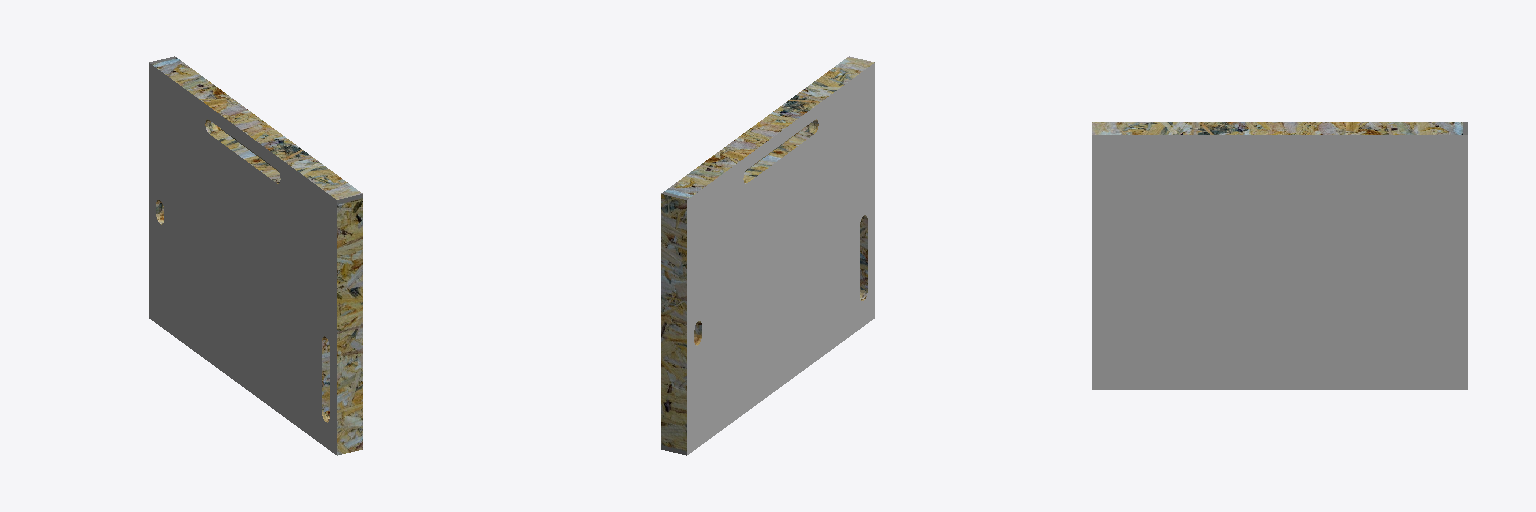
3 views of the same model, side by side, from view 1: azimuth 30°, elevation 25°; view 2: azimuth 150°, elevation 25°; view 3: azimuth 270°, elevation 25° (orthographic).
Parts seen in each view (by area): view 1: Product; view 2: Product; view 3: Product.
Part boxes in pixels (x1,y1,x2,y2): Product: (149,56,362,455); Product: (661,56,874,455); Product: (1092,122,1467,389).
Size of the model in its own units: 16 by 150 by 200.
Materials: 2 (1 with a texture image).